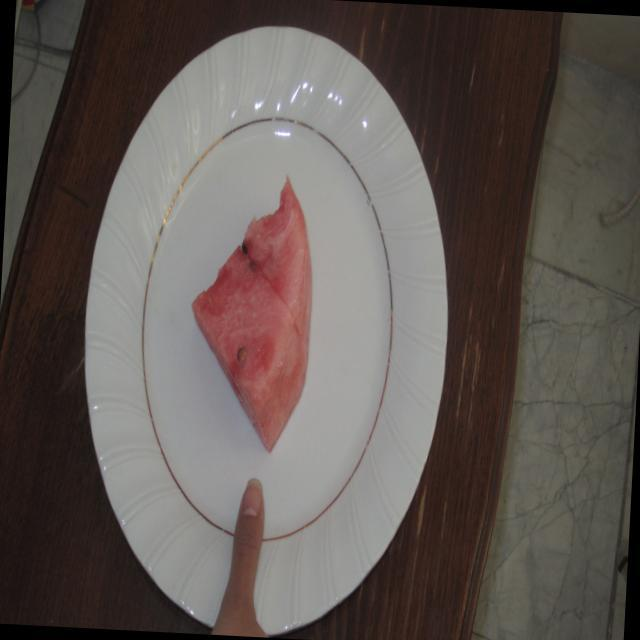Finger: (226, 471, 272, 592)
Watermelon: (178, 163, 338, 463)
